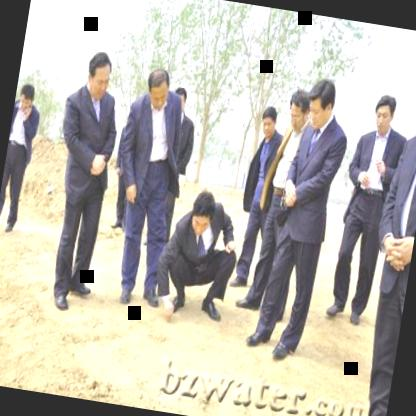head: (305, 73, 341, 132), (80, 46, 117, 102), (186, 186, 220, 240), (367, 90, 401, 138), (141, 62, 174, 108), (284, 86, 312, 132), (255, 99, 281, 145), (405, 52, 416, 136), (15, 79, 38, 116), (170, 82, 192, 119)
